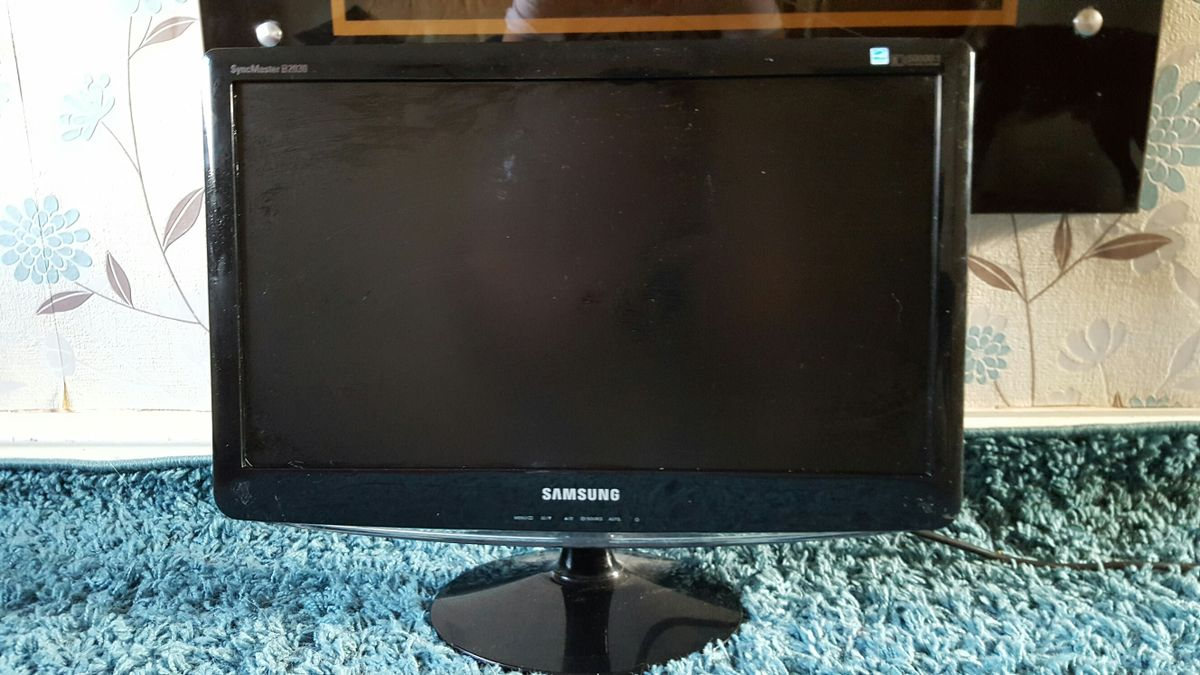samsung-monitor-b2030: (200, 21, 1000, 675)
